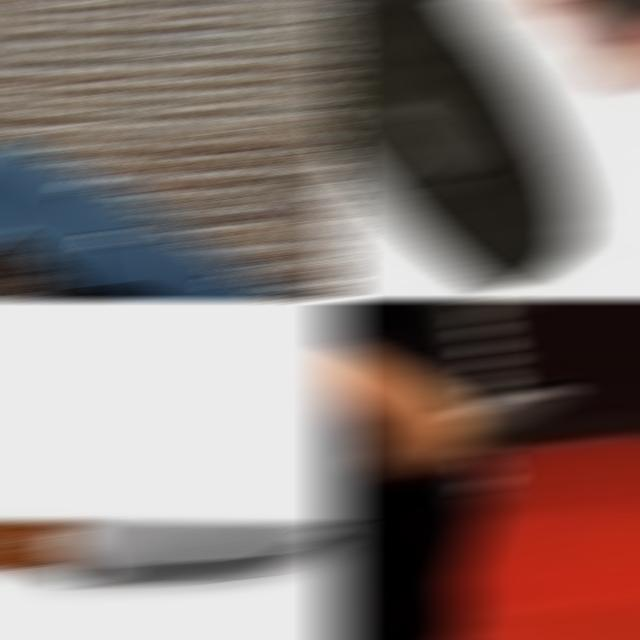Knife: (0, 521, 346, 584), (449, 388, 570, 438)
Knife_Handle: (328, 1, 640, 218), (364, 366, 582, 474)
